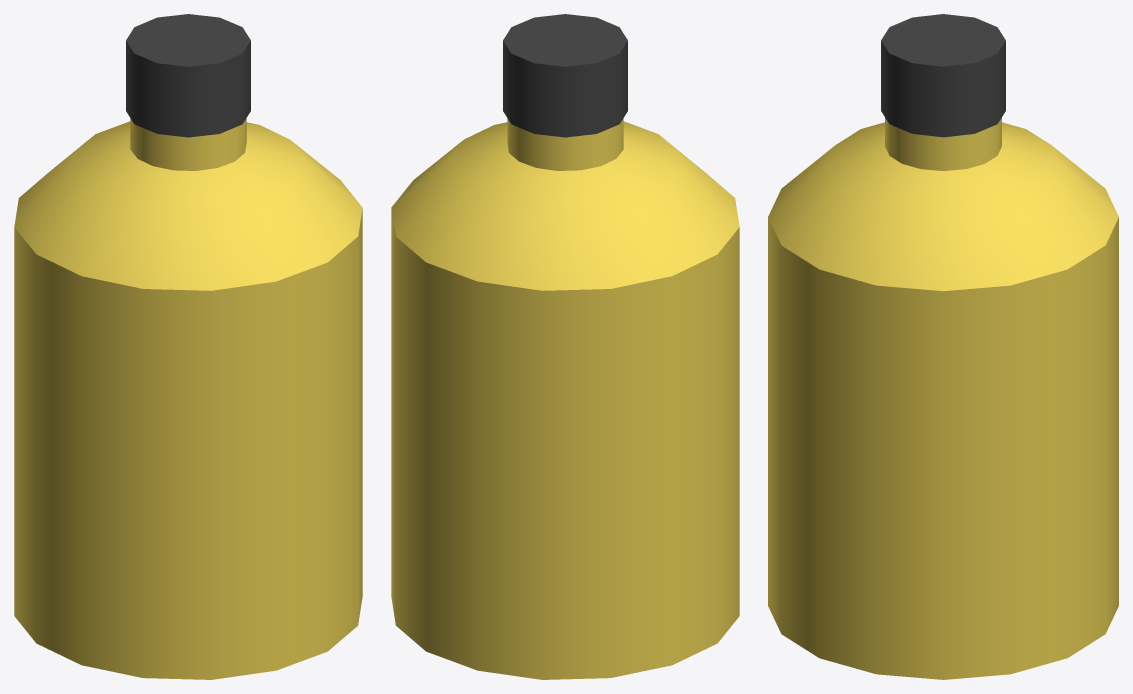
File: oilbottle.glb
3 renders of one model, left to right at view 1: azimuth 30°, elevation 25°; view 2: azimuth 150°, elevation 25°; view 3: azimuth 270°, elevation 25°, orthographic.
Visible parts, largest first — view 1: OilBottle; view 2: OilBottle; view 3: OilBottle.
Boxes of the visible parts, box(x1,y1,x2,y2) form: OilBottle: box(14, 14, 362, 679); OilBottle: box(391, 14, 739, 679); OilBottle: box(768, 14, 1118, 679).
Bounding box in the file's own units: 0.18 × 0.32 × 0.18.
